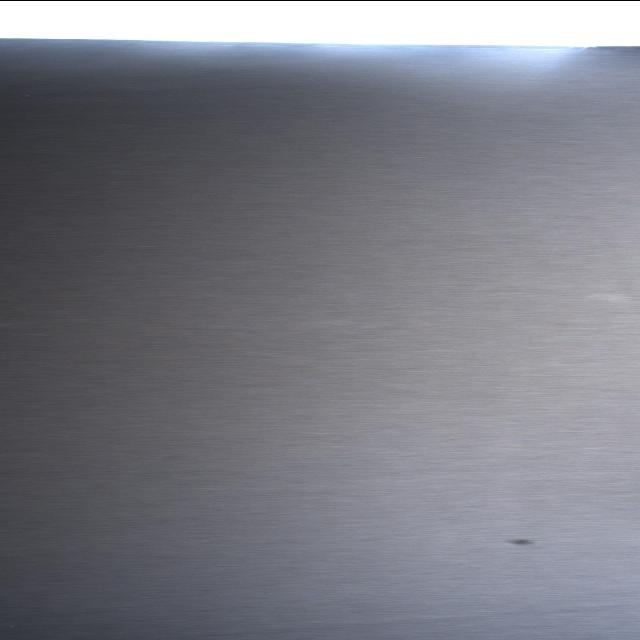crease: (184, 598, 638, 638)
whiteDefect: (590, 293, 626, 302)
